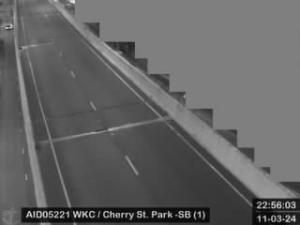vehicle: (3, 18, 13, 30)
